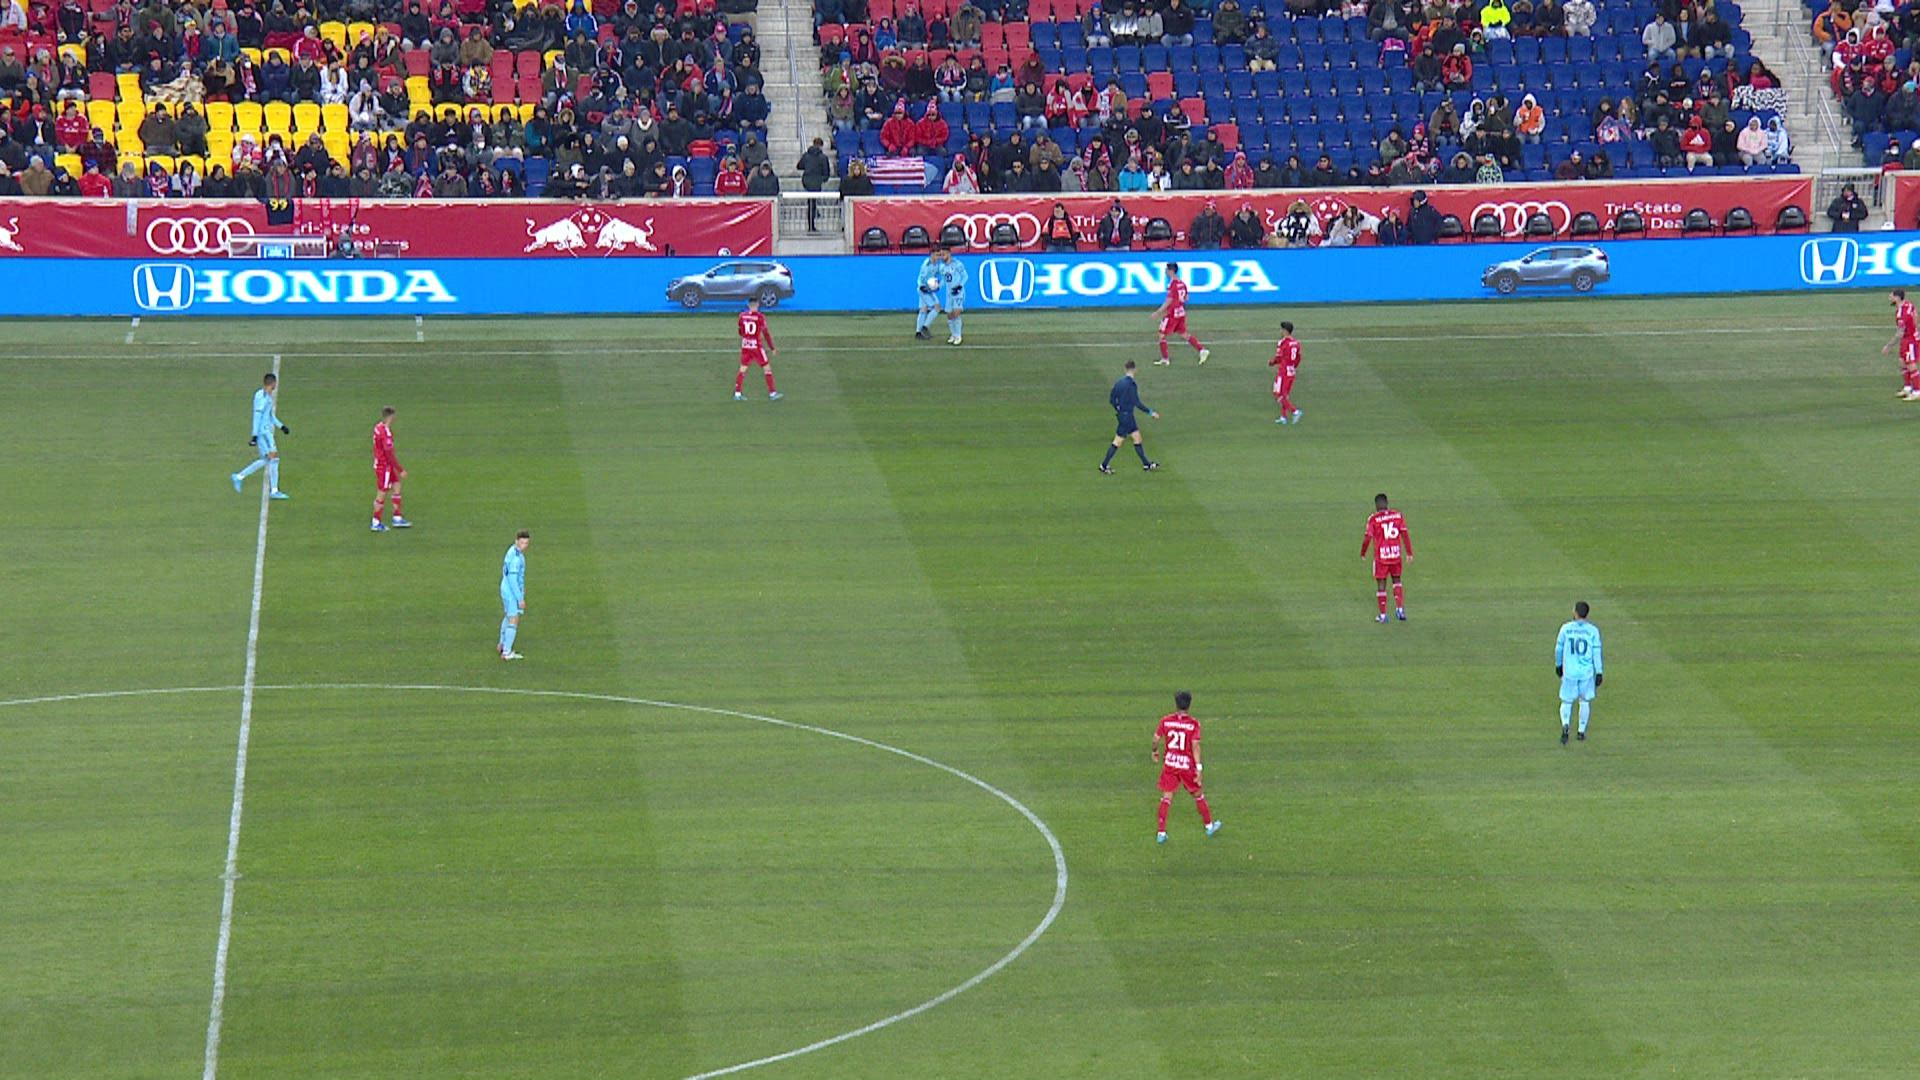football: (928, 278, 939, 289)
